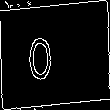O_N: (42, 28, 68, 82)
